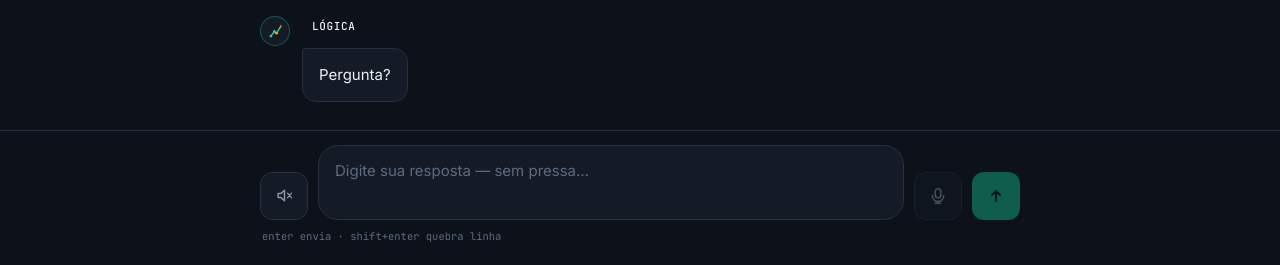
Test: InterviewPage — send() › falha seta submitError e mantém draft preenchido
The width and height of the screenshot is (1280, 265).
Check: the text "Pergunta?" is shown, box [302, 48, 408, 102]
Type "minha resposta" into the text box labelled "sua resposta" at (611,182), box [318, 145, 904, 220]
Then press Enter
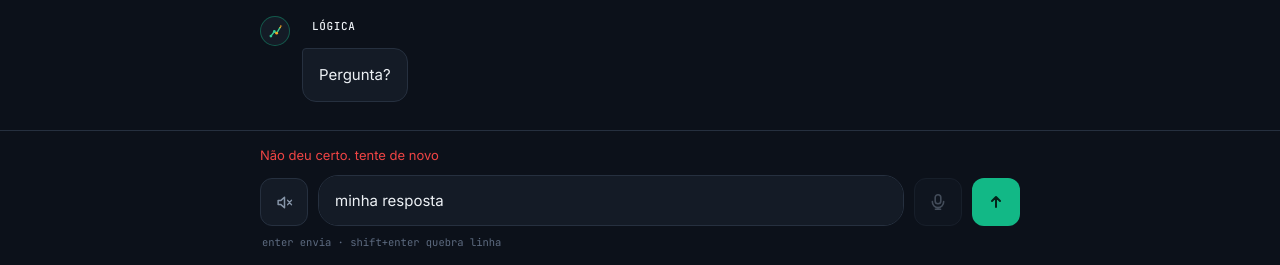
Check: the text "Não deu certo. tente de novo" is shown, box [260, 147, 439, 163]
